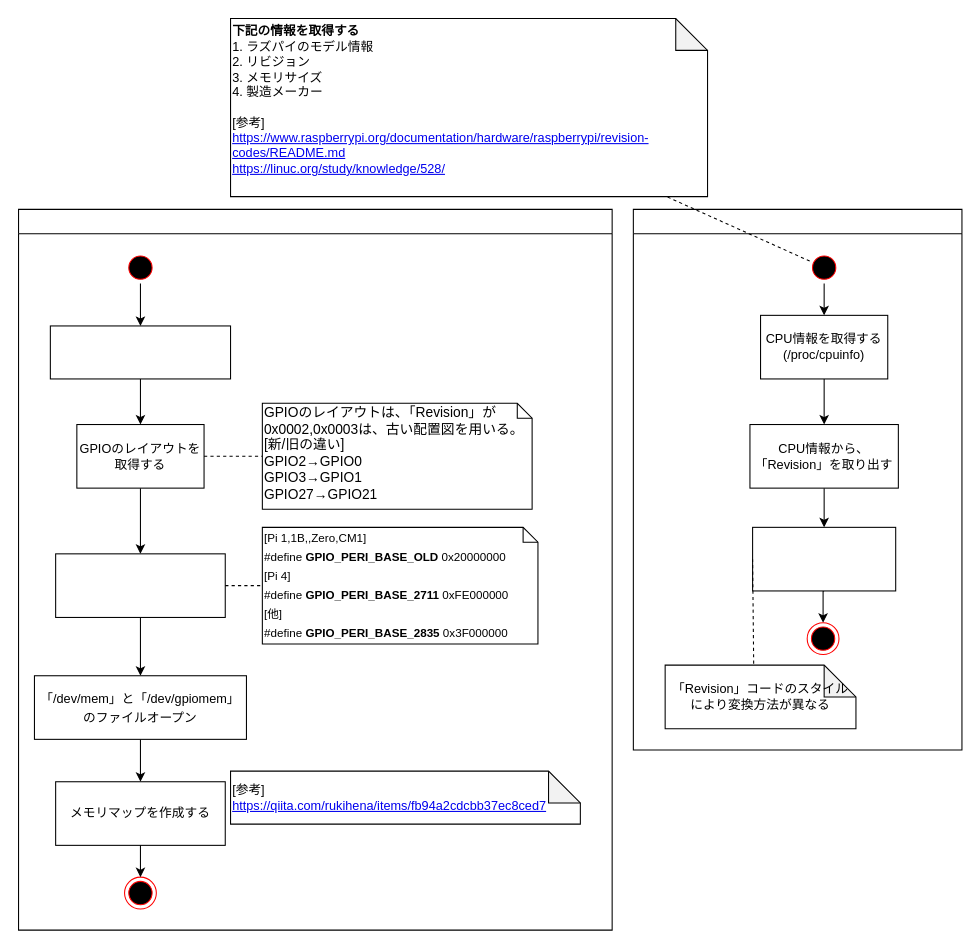
The diagram is 980 pixels wide and 949 high, and some of its shapes have lost their labels. The box of each missing label's shape, as (x1, y1, x2, y2) in pixels:
wiringPiSetup: (17, 208, 612, 930)
「Revision」コードを、ボード情報に変換する: (752, 526, 896, 591)
ハードウェアIOの ベースアドレスを設定する: (55, 553, 225, 617)
ボードの情報を取得する: (632, 208, 962, 750)
ボードの情報を取得する (piBoardId): (49, 325, 231, 379)
